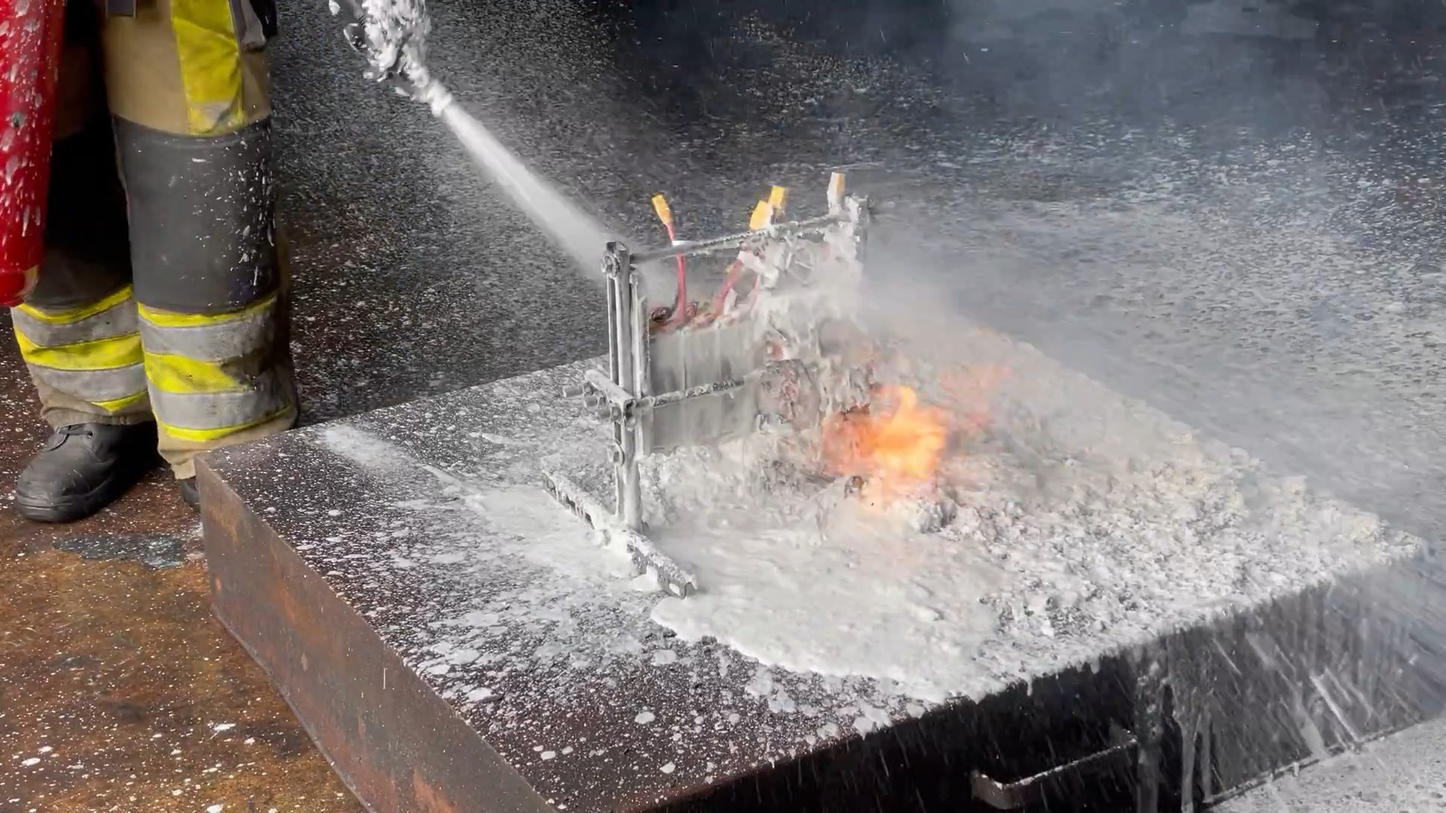fire: (818, 368, 997, 516)
smoke: (842, 0, 1266, 382)
